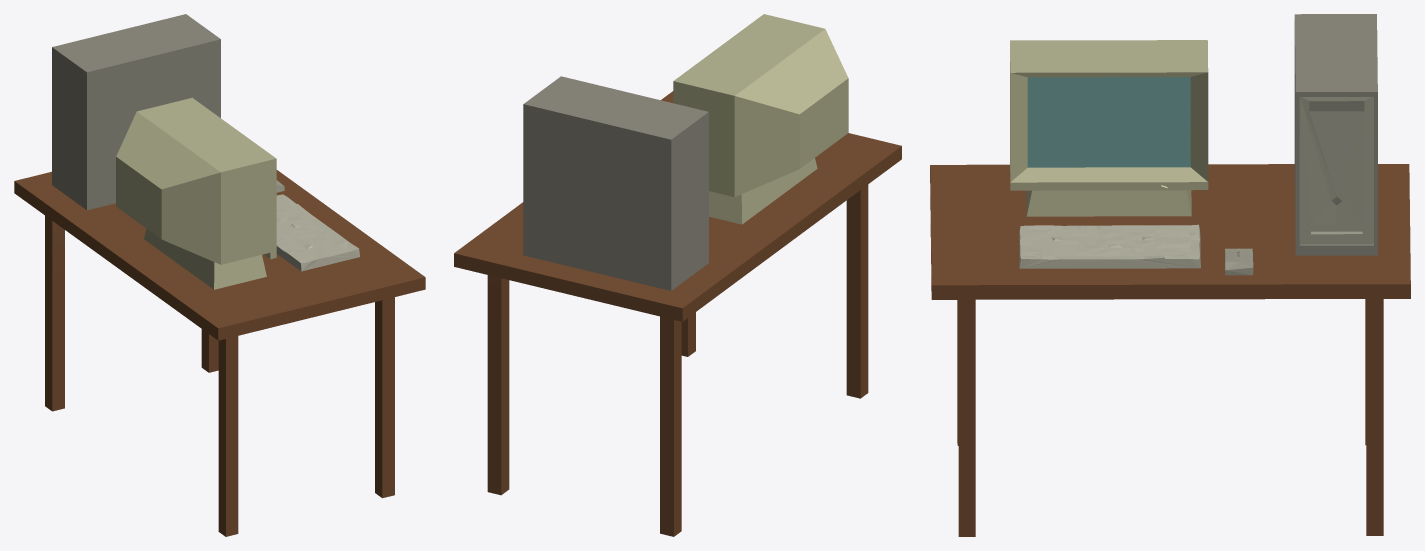
The model's file is pc_table.fbx.
The picture shows the model from 3 angles, left to right: view 1: azimuth 30°, elevation 25°; view 2: azimuth 150°, elevation 25°; view 3: azimuth 270°, elevation 25°; orthographic projection. The views are drawn at different scales.
Parts seen in each view (by area): view 1: PC_1; view 2: PC_1; view 3: PC_1.
Part boxes in pixels (<box>): PC_1: <box>14,14,425,536</box>; PC_1: <box>454,14,901,536</box>; PC_1: <box>930,14,1410,536</box>.
Bounding box in the file's own units: 231 × 373 × 381.
